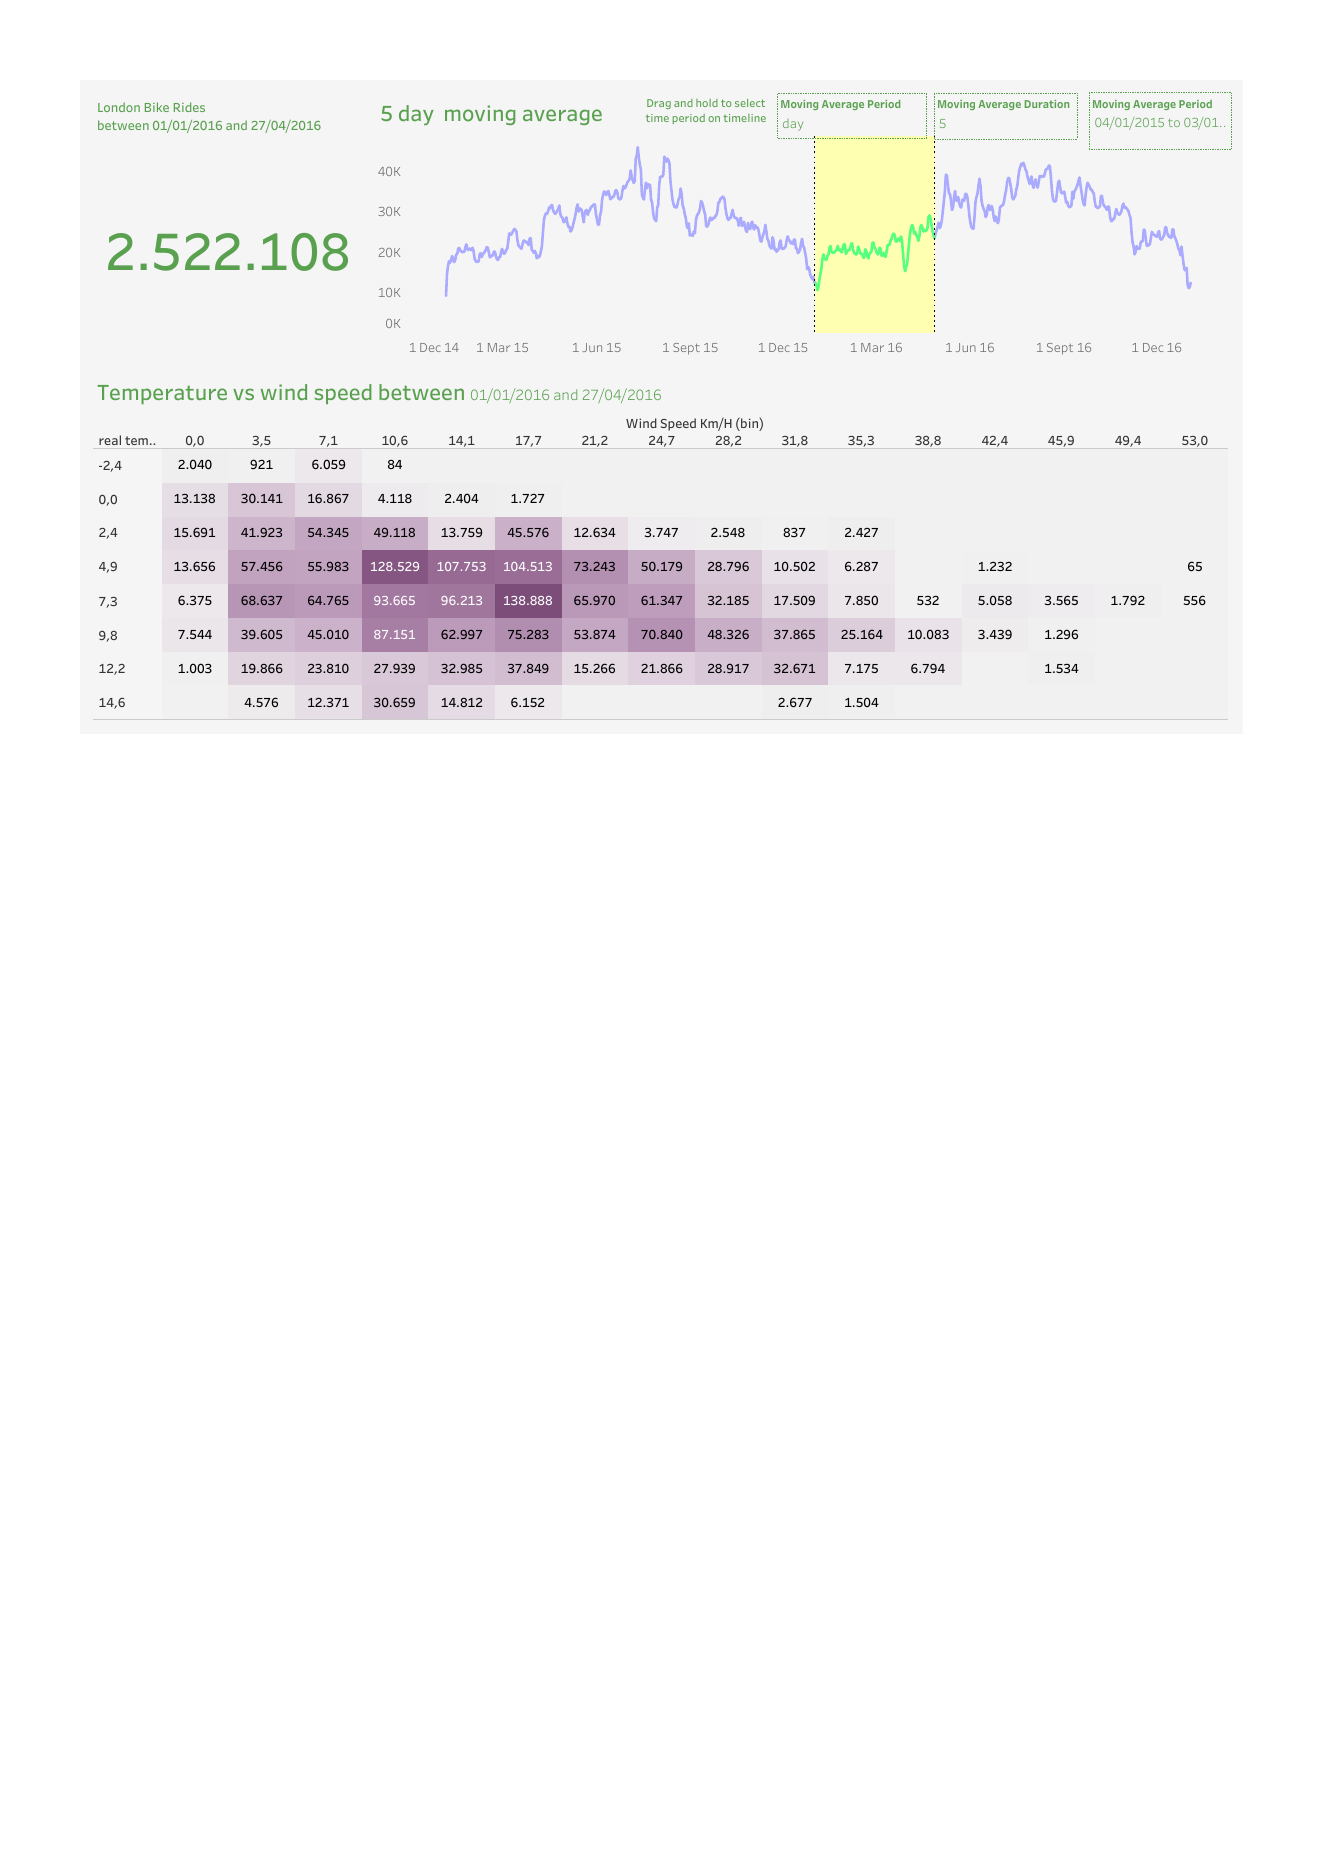

Layout of this report page (visuals, bound fields, positions):
{"tool":"tableau","page":{"name":"Dashboard 1","canvas":[1366,768],"ordinal":0},"visuals":[{"type":"worksheet","title":"TotalRides","mark":"Automatic","box":[8,8,333,327]},{"type":"worksheet","title":"MovingAverage","mark":"Automatic","rows":["Calculation_0558045820956674"],"cols":["Calculation_0544301906456578"],"box":[341,8,1017,327]},{"type":"filter","title":"MovingAverage","param":"[federated.0j1wv3a1vyclg312tibfn0kq5nvj].[none:Calculation_0544301906456578:qk]","box":[1185,14,168,68]},{"type":"text","box":[650,15,171,42]},{"type":"parameter","param":"[Parameters].[Parameter 0544301905965056]","box":[819,15,176,54]},{"type":"parameter","param":"[Parameters].[Parameter 0544301906145281]","box":[1003,15,169,55]},{"type":"worksheet","title":"Heatmap","mark":"Square","rows":["real temperature in C (bin)"],"cols":["Wind Speed Km/H (bin)"],"box":[8,335,1350,425]}]}

Visuals, with their boxes on the page's 1366x768 design canvas (x1, y1, x2, y2). These are canvas units, not pixel positions in the 1323x1872 screenshot, which may show the page scaled, cropped or inside an application window:
"TotalRides" worksheet: <box>8,8,341,335</box>
"MovingAverage" worksheet: <box>341,8,1358,335</box>
"MovingAverage" filter: <box>1185,14,1353,82</box>
text: <box>650,15,821,57</box>
parameter: <box>819,15,995,69</box>
parameter: <box>1003,15,1172,70</box>
"Heatmap" worksheet (Square marks): <box>8,335,1358,760</box>
